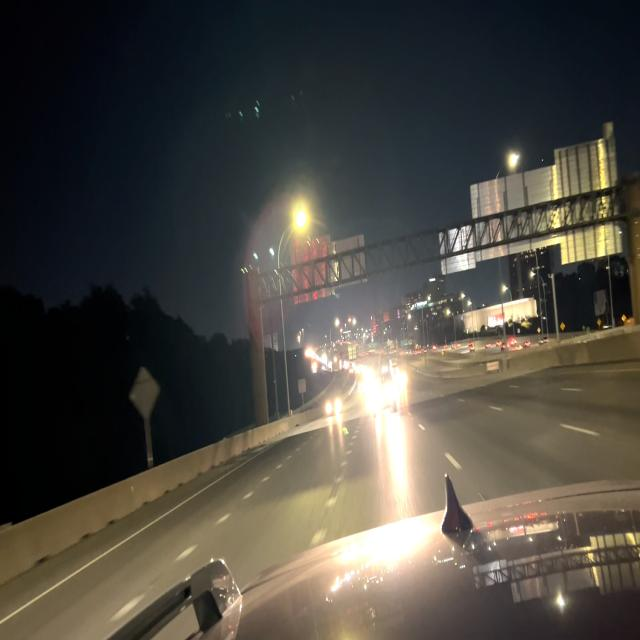back-of-sign: (438, 120, 623, 276), (290, 234, 367, 303), (129, 363, 160, 420), (297, 376, 309, 398)
